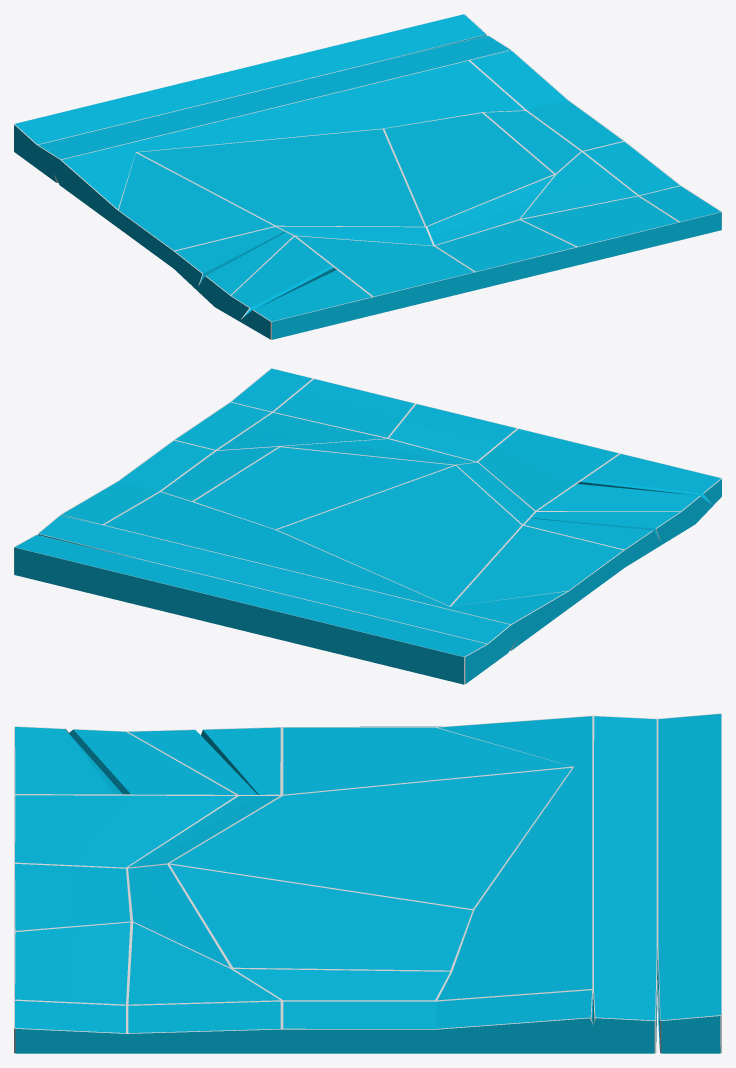
The model's file is Platform.fbx.
The picture shows the model from 3 angles, top to bottom: view 1: azimuth 30°, elevation 25°; view 2: azimuth 150°, elevation 25°; view 3: azimuth 270°, elevation 25°; orthographic projection. The views are drawn at different scales.
Visible parts, largest first — view 1: Cube.001; view 2: Cube.001; view 3: Cube.001.
Part boxes in pixels (x1,y1,x2,y2): Cube.001: (14,14,721,339); Cube.001: (14,368,721,684); Cube.001: (14,713,721,1053).
Bounding box in the file's own units: 415 × 23.41 × 397.
